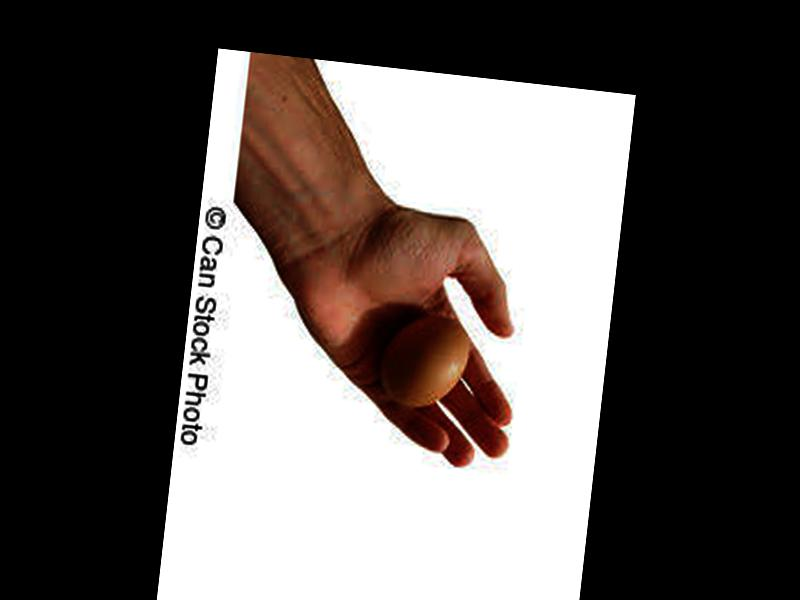Eggs: (377, 314, 469, 413)
